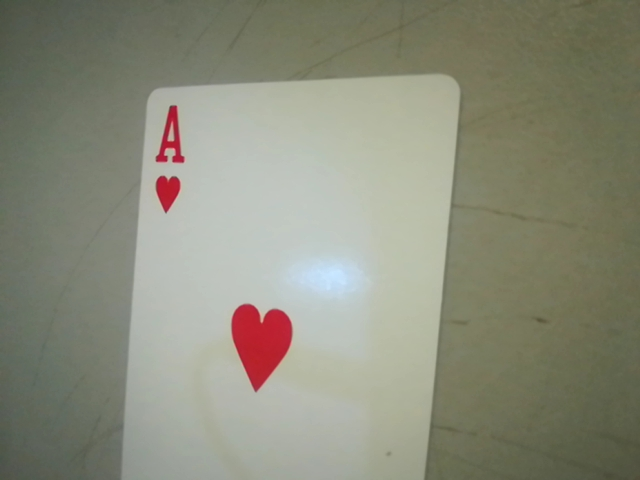hx a: (138, 96, 200, 222)
